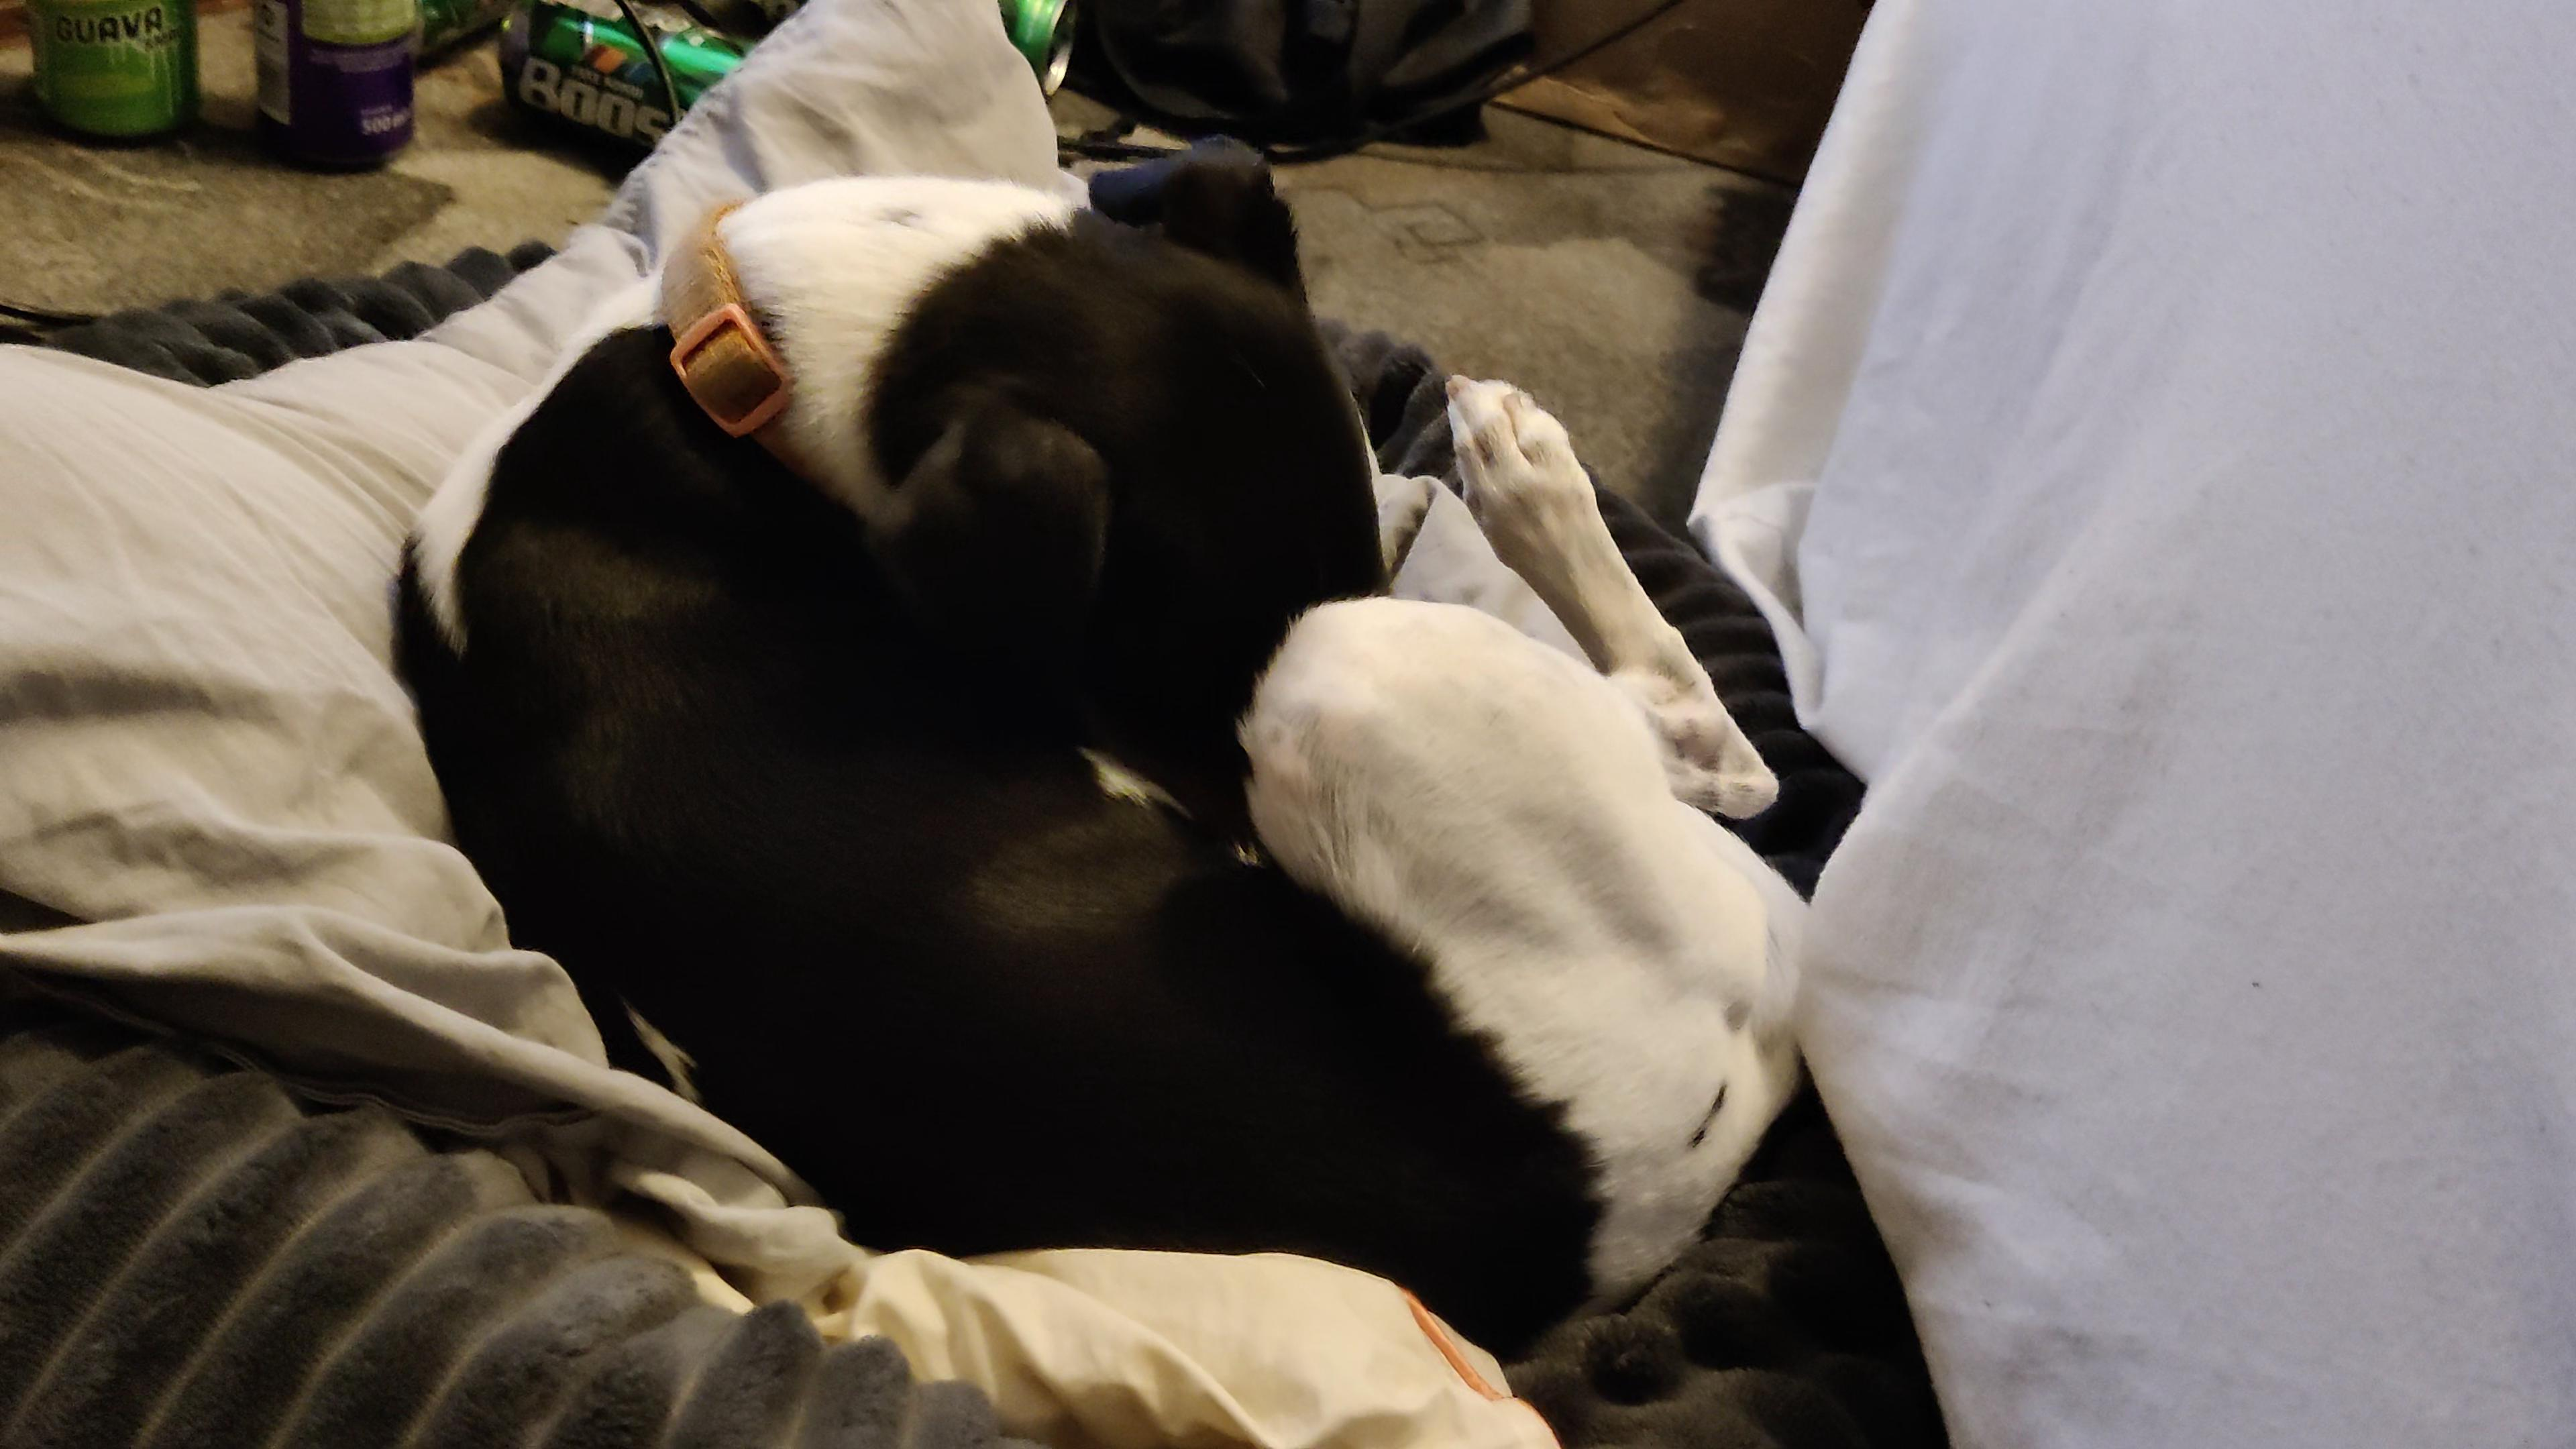Dog: (331, 122, 1856, 1387)
